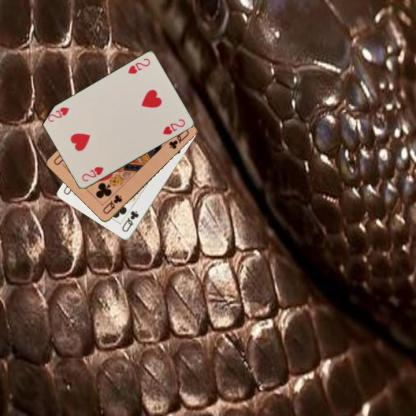2h: (125, 56, 151, 76), (79, 164, 105, 183)
Qc: (100, 192, 124, 216), (119, 209, 140, 233)
